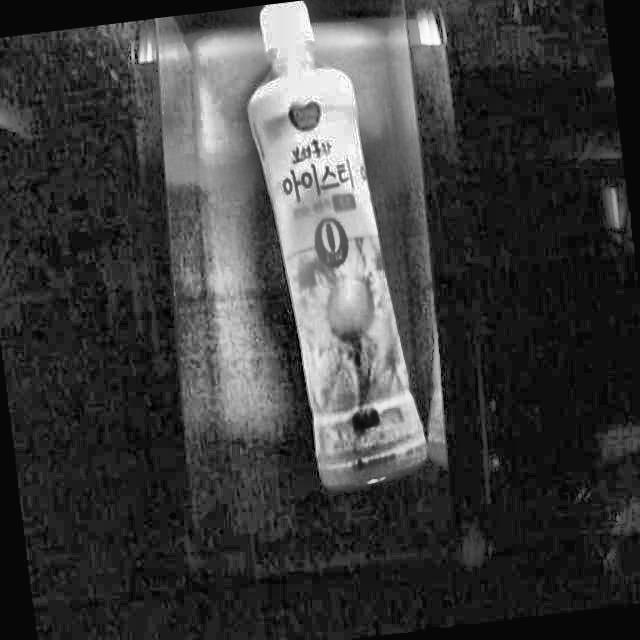plastic bottle: (249, 2, 429, 488)
